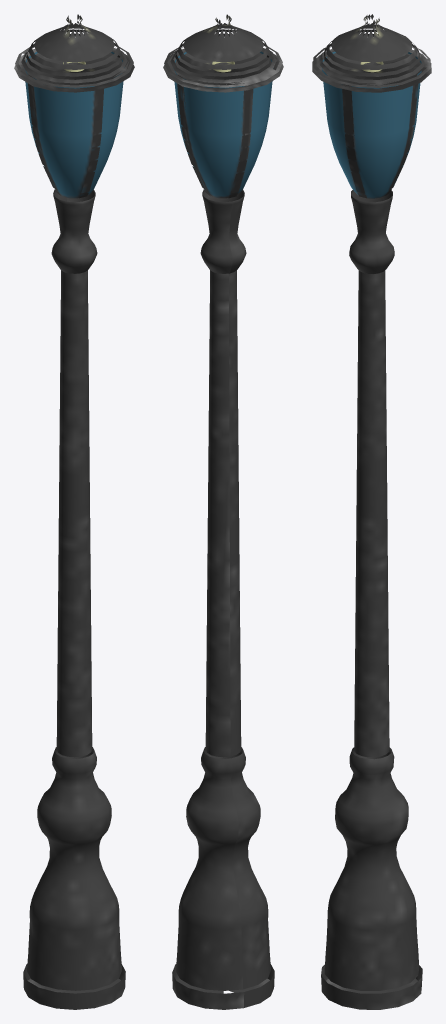
The model's file is tj_street_light.fbx.
3 views of the same model, side by side, from view 1: azimuth 30°, elevation 25°; view 2: azimuth 210°, elevation 25°; view 3: azimuth 330°, elevation 25° (orthographic).
Visible parts, largest first — view 1: tj_street_light_LOD0; view 2: tj_street_light_LOD0; view 3: tj_street_light_LOD0.
Boxes of the visible parts, x1,y1,x2,y2 form: tj_street_light_LOD0: (14, 14, 134, 1009); tj_street_light_LOD0: (163, 14, 283, 1009); tj_street_light_LOD0: (312, 14, 431, 1009).
Size of what is drawn, in the model's own units: 0.4584 by 4.07 by 0.4489.
Materials: 1 (1 with a texture image).
